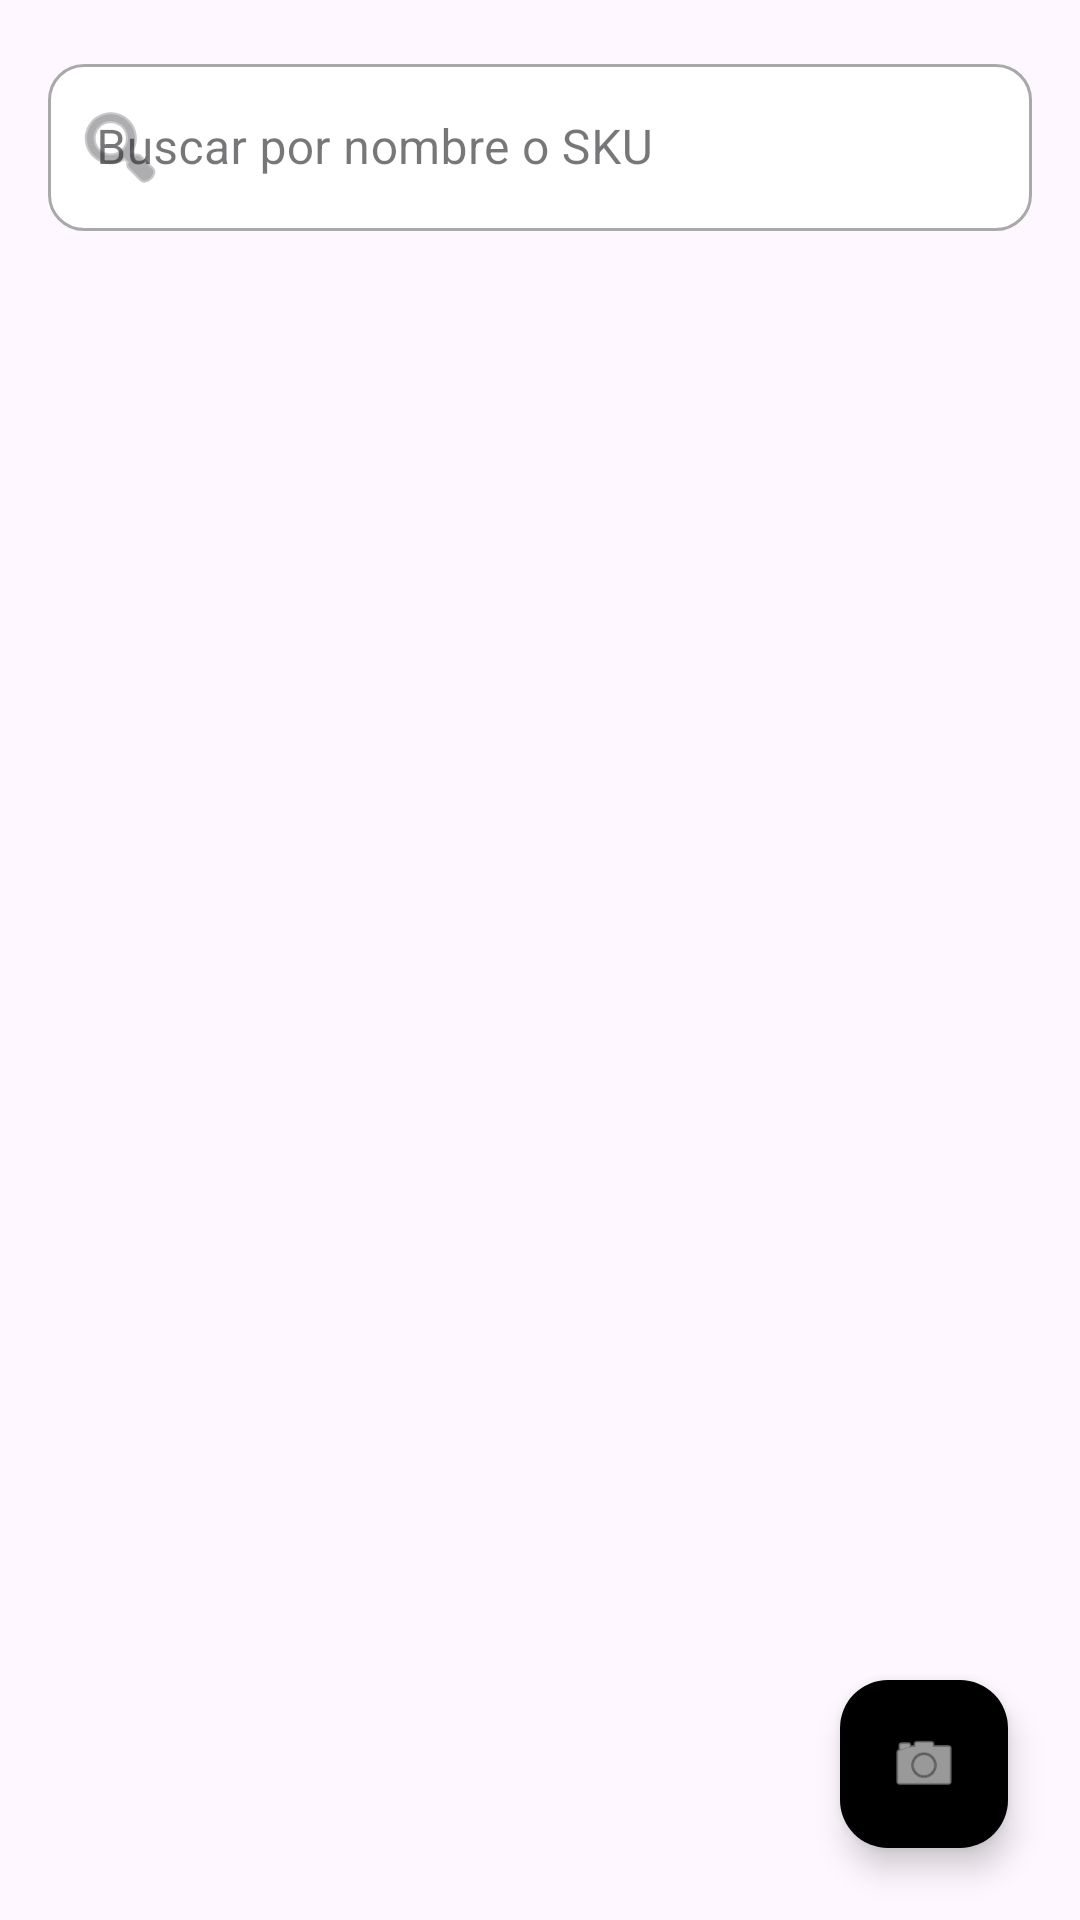

Screen size 1080x1920. Icon name, then its center in pixels as [x,y]:
Escanear Código: [924,1764]
